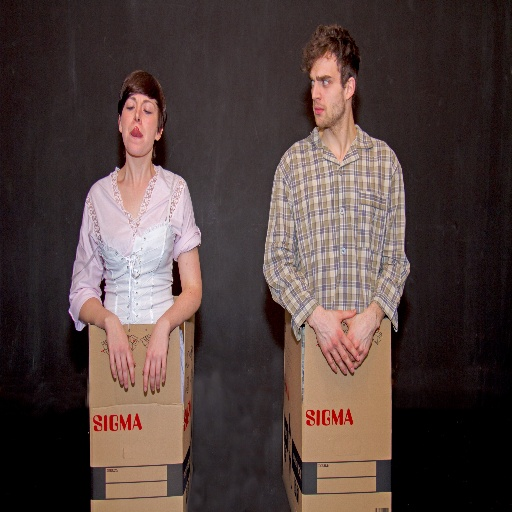hand: (312, 310, 358, 376), (99, 308, 129, 391), (339, 311, 380, 371), (140, 322, 170, 394)
